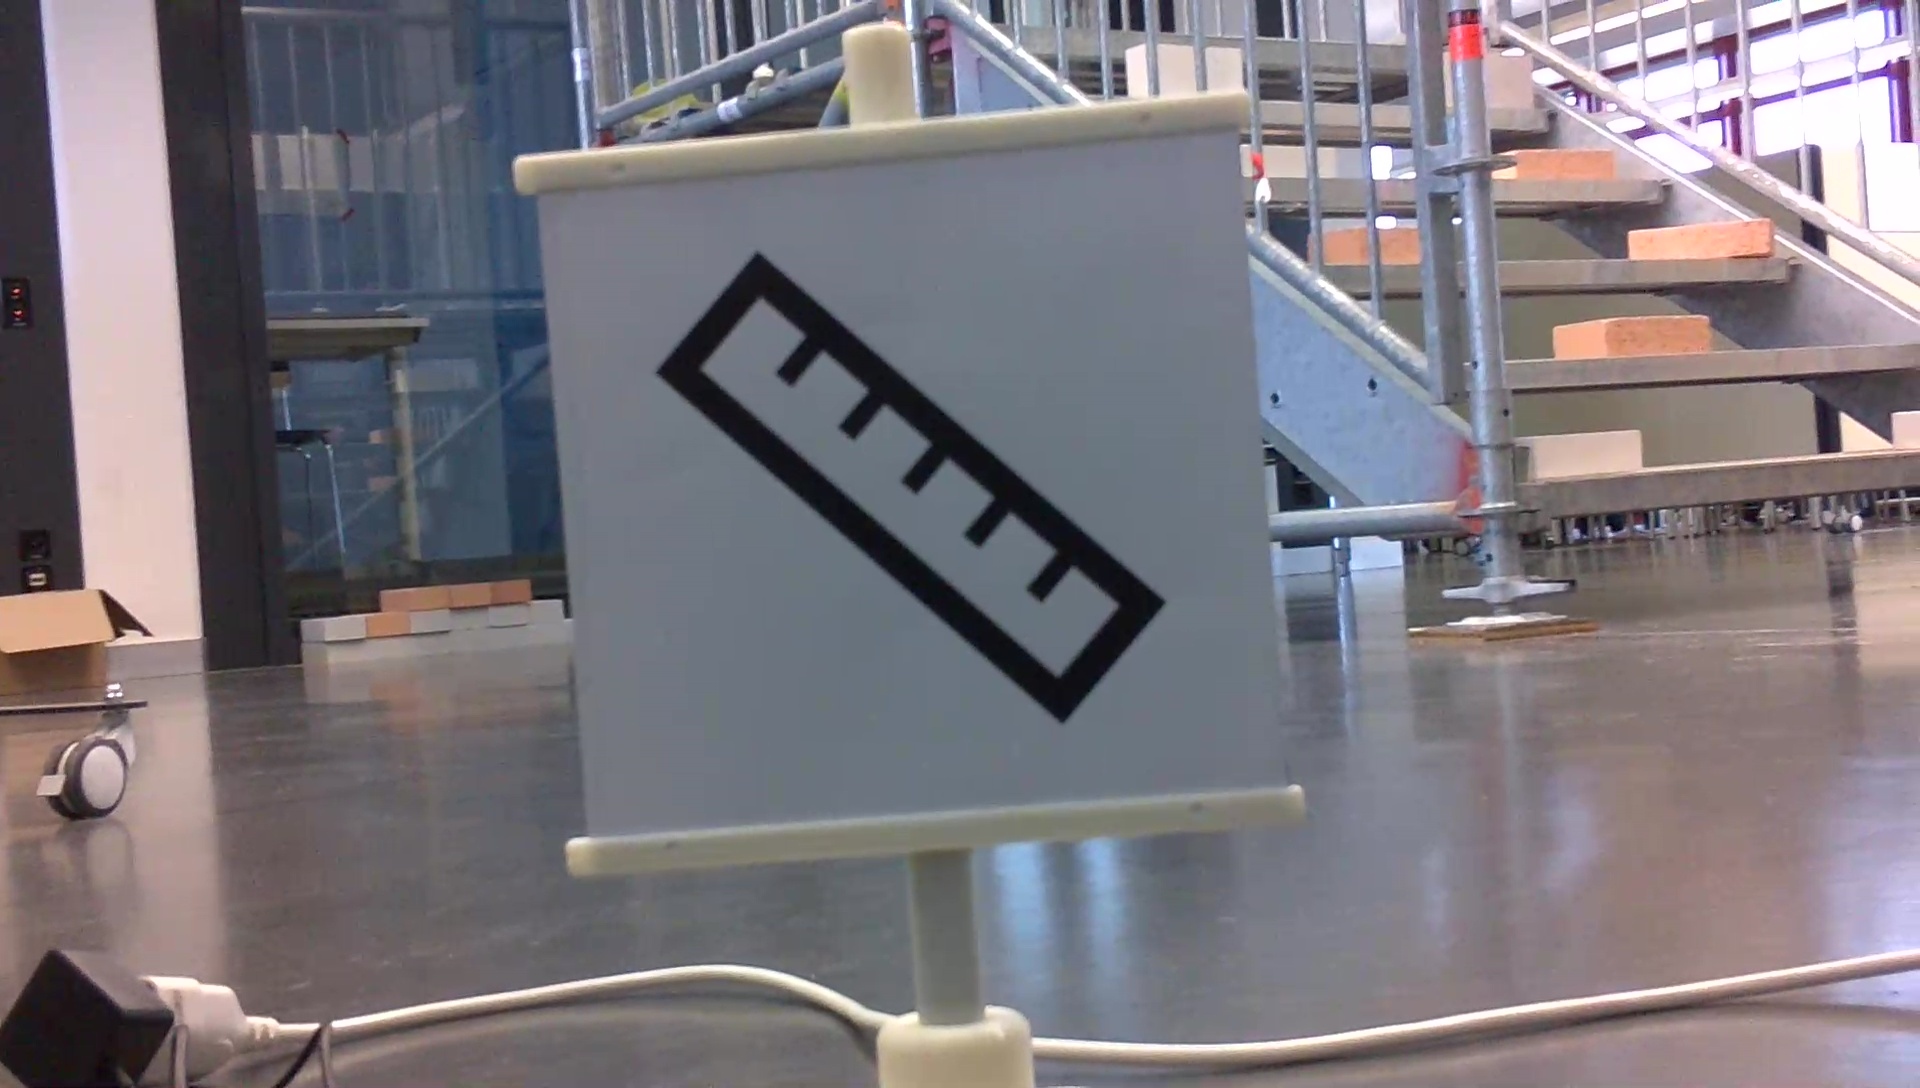brick: (1542, 317, 1716, 369), (1513, 427, 1654, 481), (1625, 214, 1778, 253), (1509, 141, 1618, 181)
edge: (1527, 444, 1920, 529), (1516, 335, 1920, 402), (1491, 247, 1797, 299)
ruler: (644, 243, 1180, 721)
